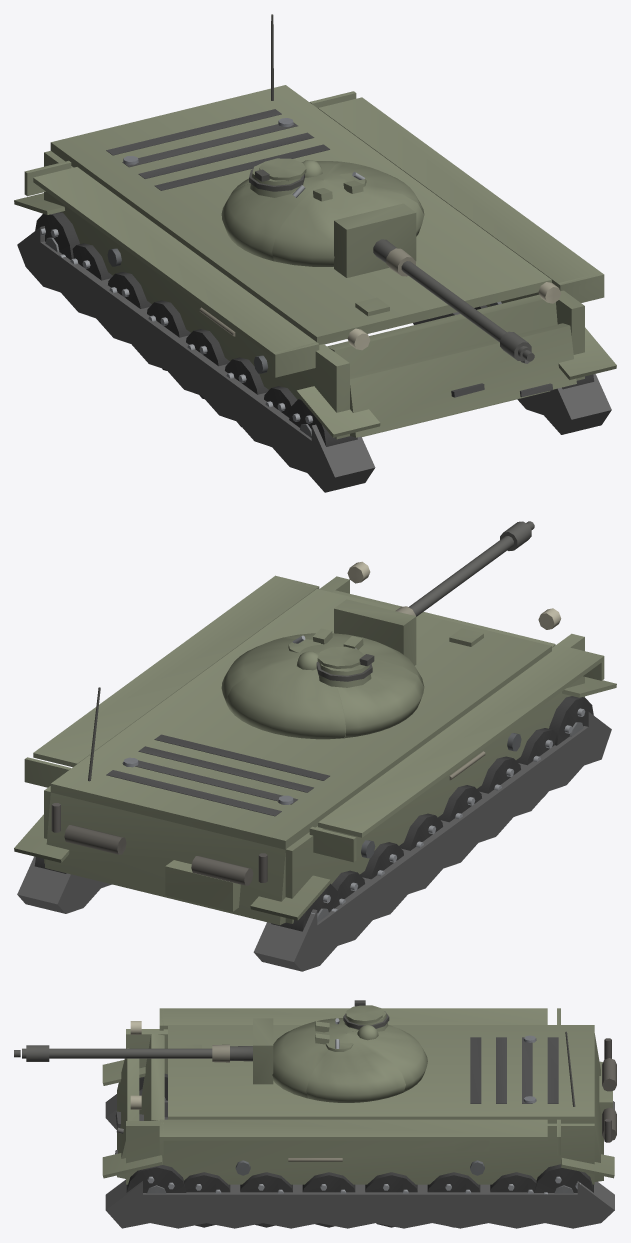
3 views of the same model, one above another, from view 1: azimuth 30°, elevation 25°; view 2: azimuth 150°, elevation 25°; view 3: azimuth 270°, elevation 25° (orthographic). The views are drawn at different scales.
Visible parts, largest first — view 1: hullTop, hullSide, tracks, lowerPlate, glacis, turretFront, turretSide, mantlet, barrel, turretRoof, wheel7, wheel6 (+6 smaller); view 2: hullTop, hullSide, tracks, hullRear, turretRear, turretSide, mantlet, turretRoof, barrel, turretFront, wheel6, glacis (+7 smaller); view 3: hullSide, hullTop, tracks, turretSide, barrel, turretFront, hullRear, turretRear, glacis, turretRoof, lowerPlate, mantlet (+8 smaller).
Part boxes in pixels (left/top/right/bottom): hullTop: left=50, top=85, right=551, bottom=344; hullSide: left=24, top=91, right=604, bottom=439; tracks: left=14, top=193, right=616, bottom=492; lowerPlate: left=350, top=323, right=576, bottom=437; glacis: left=327, top=294, right=557, bottom=436; turretFront: left=272, top=180, right=424, bottom=266; turretSide: left=221, top=161, right=424, bottom=261; mantlet: left=334, top=203, right=416, bottom=277; barrel: left=373, top=239, right=534, bottom=361; turretRoof: left=249, top=158, right=366, bottom=201; wheel7: left=35, top=212, right=79, bottom=259; wheel6: left=289, top=399, right=357, bottom=446; hullTop: left=50, top=589, right=551, bottom=849; hullSide: left=24, top=561, right=604, bottom=923; tracks: left=14, top=677, right=616, bottom=971; hullRear: left=45, top=687, right=286, bottom=925; turretRear: left=226, top=653, right=345, bottom=739; turretSide: left=221, top=637, right=424, bottom=737; mantlet: left=334, top=599, right=416, bottom=665; turretRoof: left=288, top=628, right=374, bottom=687; barrel: left=395, top=521, right=534, bottom=616; turretFront: left=283, top=633, right=424, bottom=686; wheel6: left=549, top=696, right=593, bottom=745; glacis: left=332, top=590, right=555, bottom=647; hullSide: left=126, top=1008, right=594, bottom=1184; hullTop: left=168, top=1025, right=594, bottom=1123; tracks: left=102, top=1060, right=614, bottom=1228; turretSide: left=306, top=1018, right=405, bottom=1102; barrel: left=14, top=1044, right=252, bottom=1062; turretFront: left=272, top=1021, right=345, bottom=1098; hullRear: left=565, top=1031, right=616, bottom=1181; turretRear: left=347, top=1026, right=427, bottom=1091; glacis: left=115, top=1033, right=201, bottom=1154; turretRoof: left=315, top=1000, right=389, bottom=1051; lowerPlate: left=117, top=1048, right=139, bottom=1178; mantlet: left=253, top=1018, right=273, bottom=1084.
Bounding box in the file's own units: 4.48 × 2.89 × 8.88.
